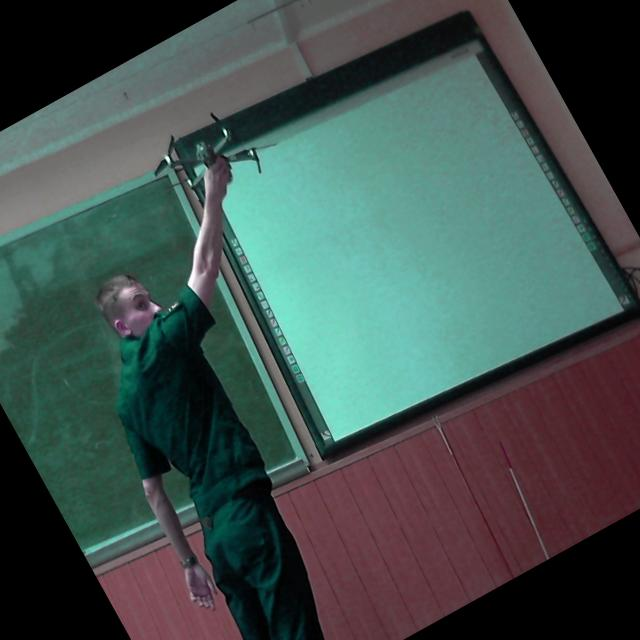drone: (132, 84, 282, 229)
